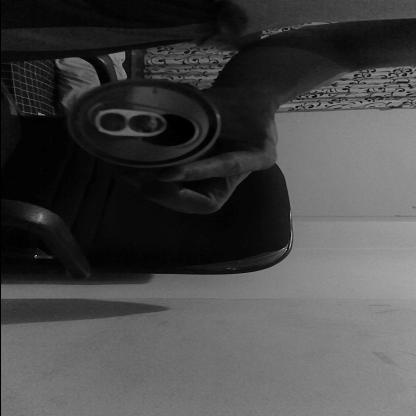alumunium_can: (66, 80, 218, 170)
